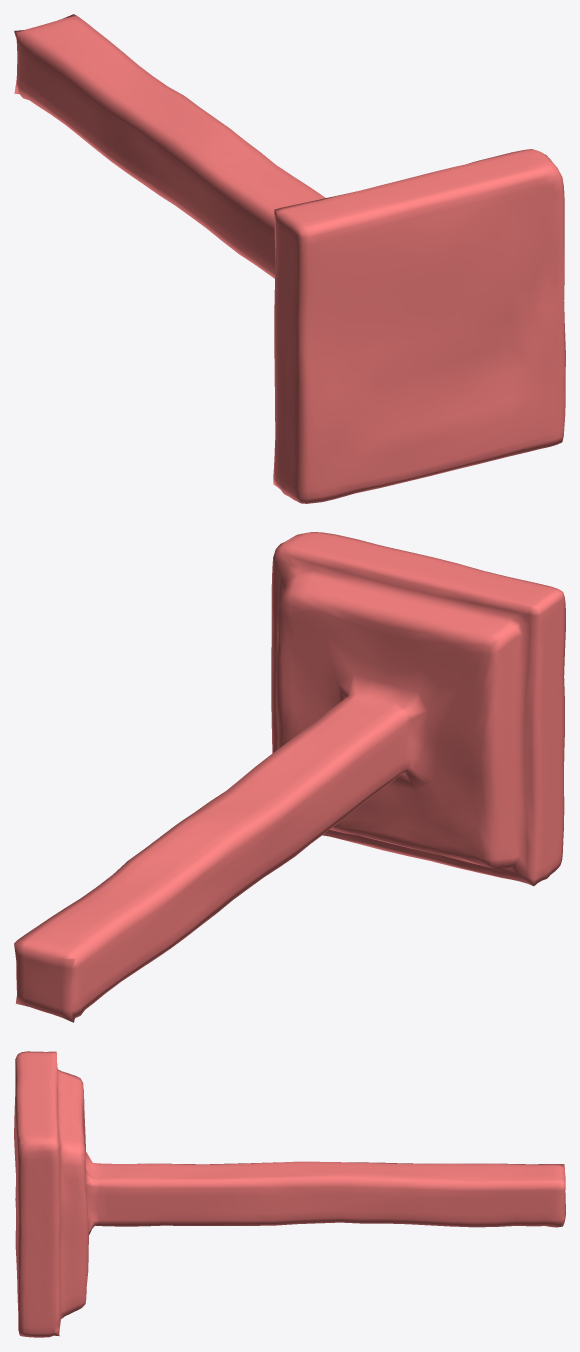
File: organ01-2.fbx
3 views of the same model, one above another, from view 1: azimuth 30°, elevation 25°; view 2: azimuth 150°, elevation 25°; view 3: azimuth 270°, elevation 25° (orthographic). The views are drawn at different scales.
Parts seen in each view (by area): view 1: pCube3; view 2: pCube3; view 3: pCube3.
Part boxes in pixels (<box>): pCube3: <box>14,14,565,503</box>; pCube3: <box>14,532,565,1022</box>; pCube3: <box>14,1051,565,1337</box>.
Bounding box in the file's own units: 1.54 × 1.54 × 3.91.
